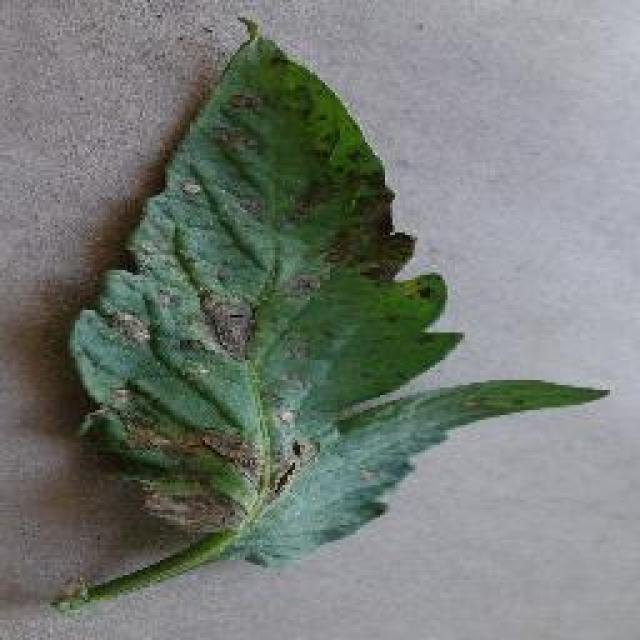Tomato Early blight leaf: (49, 28, 594, 598)
